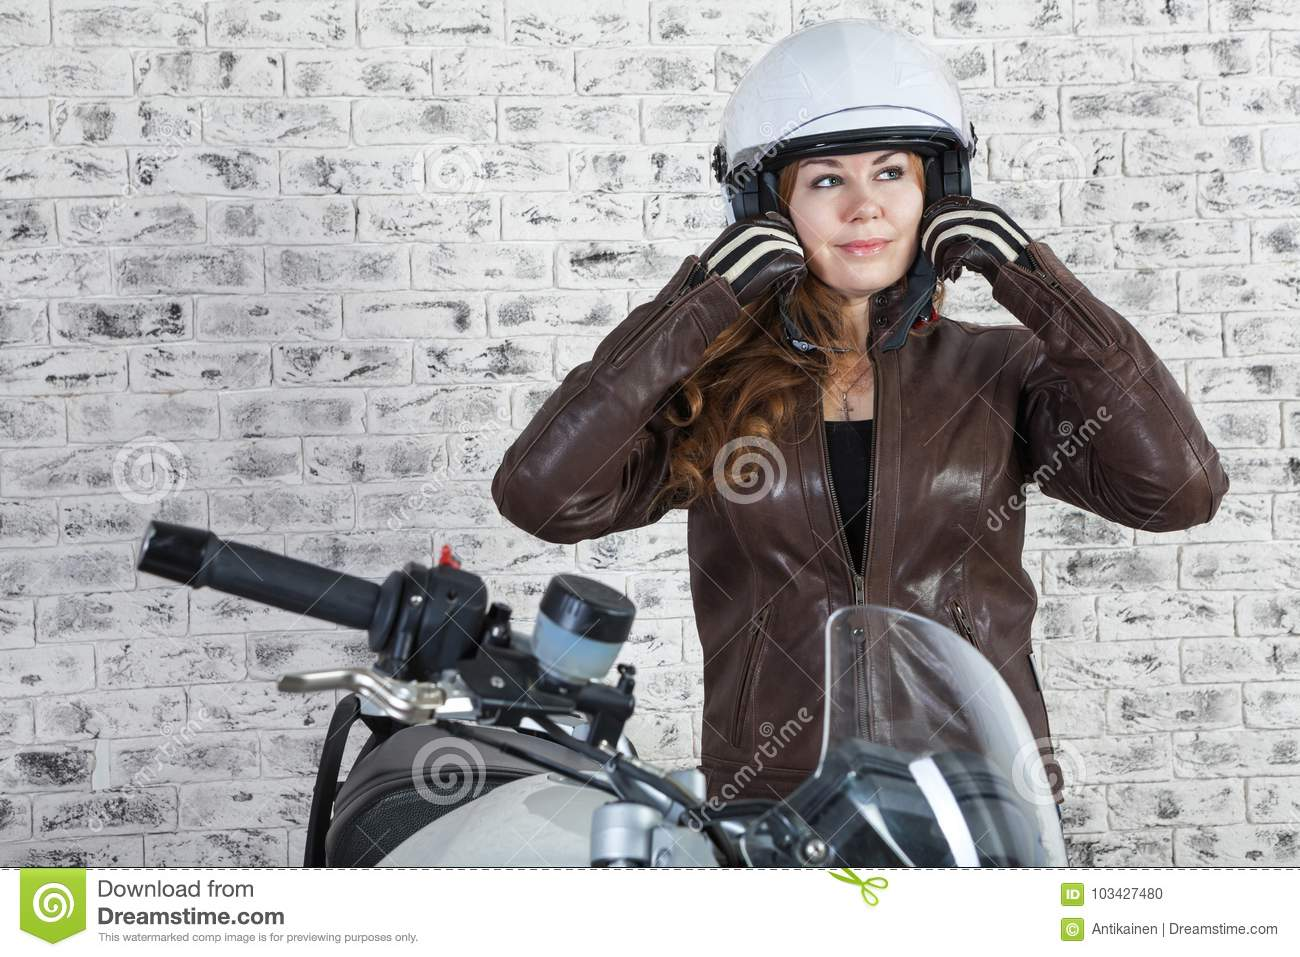helmet: (714, 42, 986, 186)
